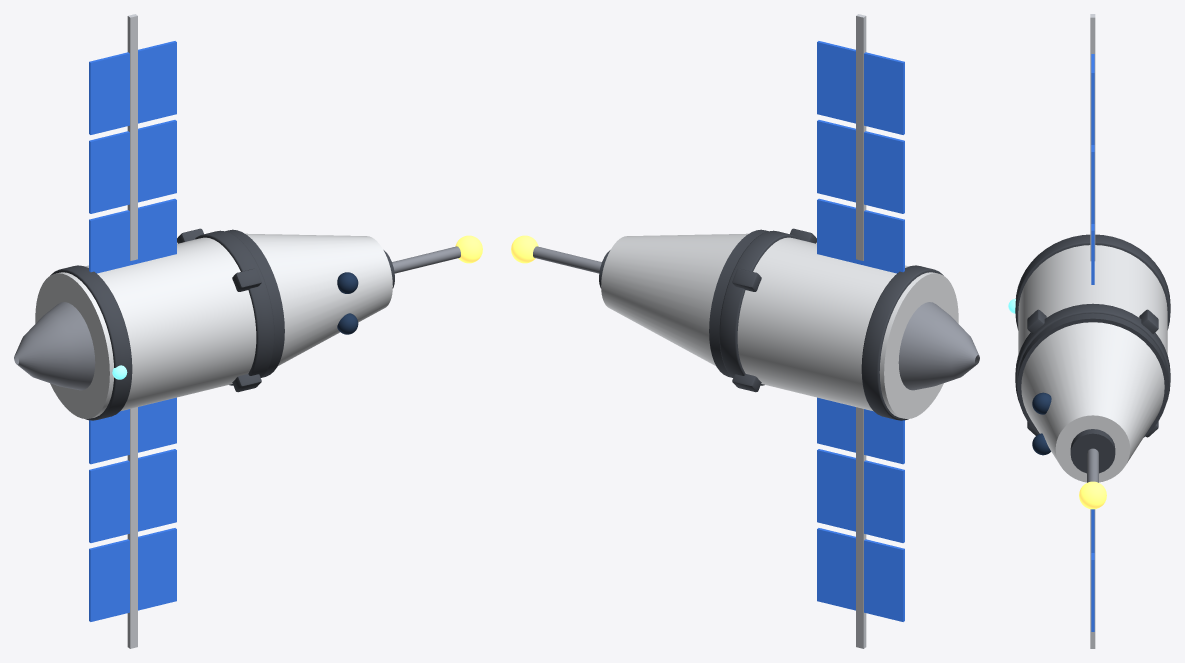
The model's file is ship.glb.
The picture shows the model from 3 angles, left to right: view 1: azimuth 30°, elevation 25°; view 2: azimuth 150°, elevation 25°; view 3: azimuth 270°, elevation 25°; orthographic projection.
Visible parts, largest first — view 1: wings, service, capsule, bell, service_band2, service_band, heat_shield, probe; view 2: wings, service, capsule, bell, service_band2, service_band, heat_shield, probe; view 3: capsule, service, wings, heat_shield, service_band2, service_band, drogue, probe_tip, probe, window_a, rcs_1, rcs_0 (+1 smaller).
Boxes of the visible parts, x1,y1,x2,y2 form: wings: (89,14,176,648); service: (35,237,256,418); capsule: (245,233,392,365); bell: (14,302,95,390); service_band2: (50,265,132,420); service_band: (195,230,274,385); heat_shield: (225,229,284,377); probe: (392,246,460,273); wings: (817,14,904,648); service: (737,237,958,418); capsule: (601,233,748,365); bell: (898,302,979,390); service_band2: (861,265,943,420); service_band: (719,230,798,385); heat_shield: (709,229,768,377); probe: (533,246,601,273); capsule: (1021,322,1164,482); service: (1018,245,1167,354); wings: (1090,14,1095,648); heat_shield: (1017,313,1168,437); service_band2: (1015,234,1170,330); service_band: (1015,303,1170,402); drogue: (1070,429,1115,473); probe_tip: (1079,481,1106,509); probe: (1087,448,1098,482); window_a: (1032,392,1051,414); rcs_1: (1027,309,1046,333); rcs_0: (1139,309,1158,333).
Bounding box in the file's own units: 10.78 × 14 × 3.26.
